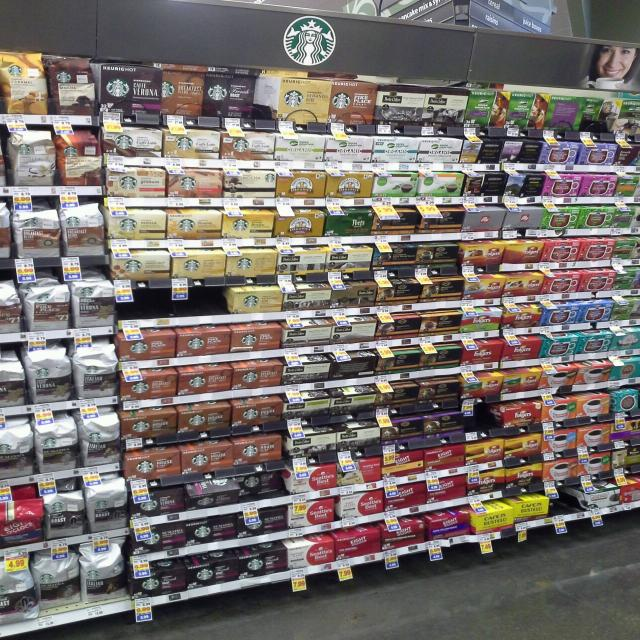void: (118, 289, 226, 321), (254, 72, 279, 120), (466, 402, 500, 432), (554, 492, 586, 516)
